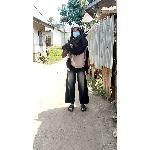Senapan: (61, 29, 91, 53)
